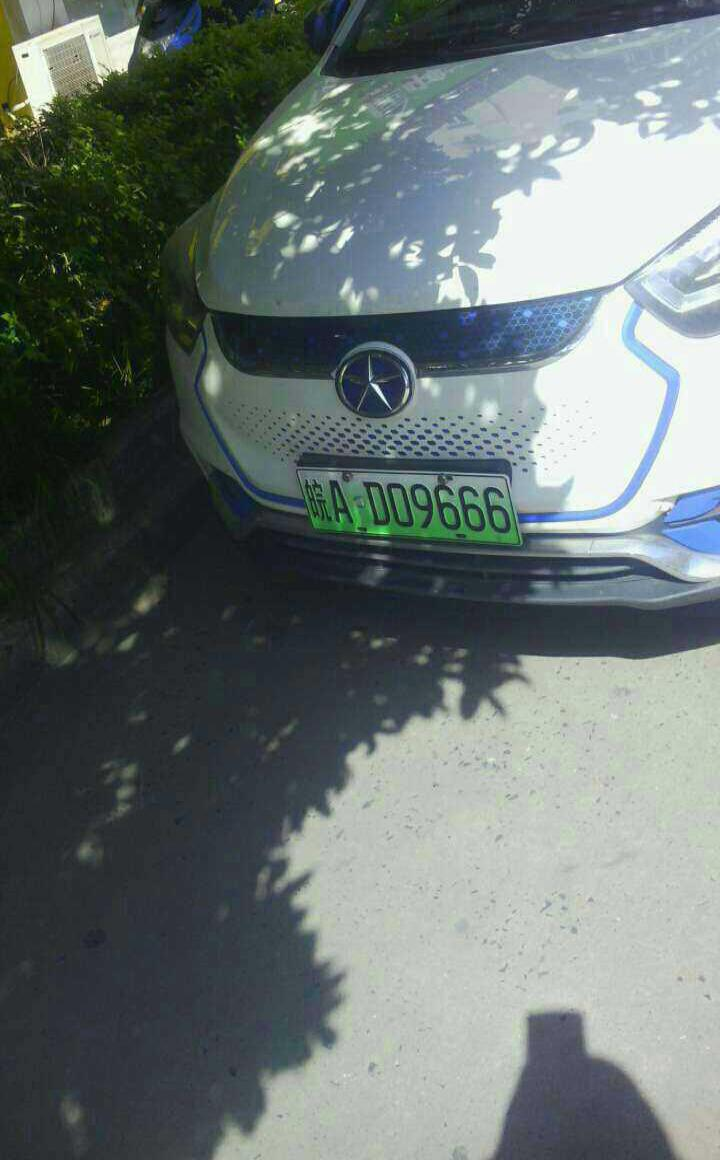car: (298, 466, 532, 565)
